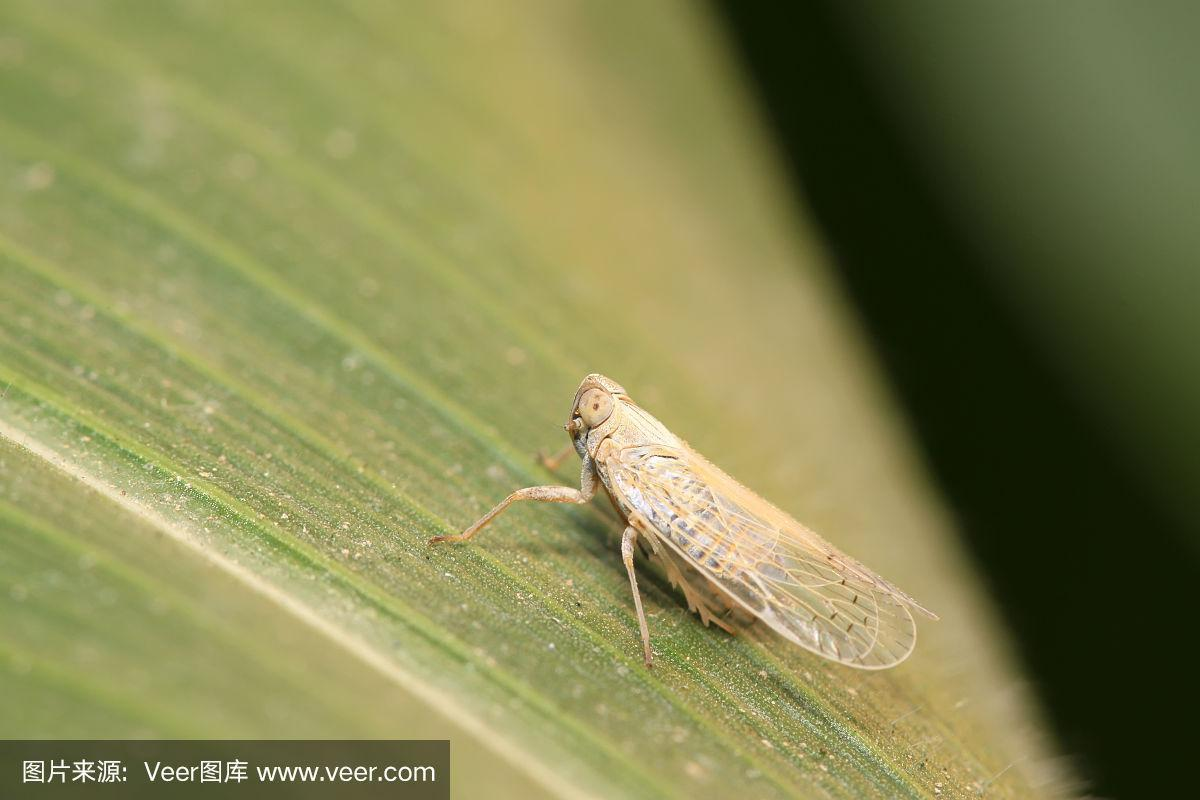Cicadellidae: (423, 373, 940, 672)
